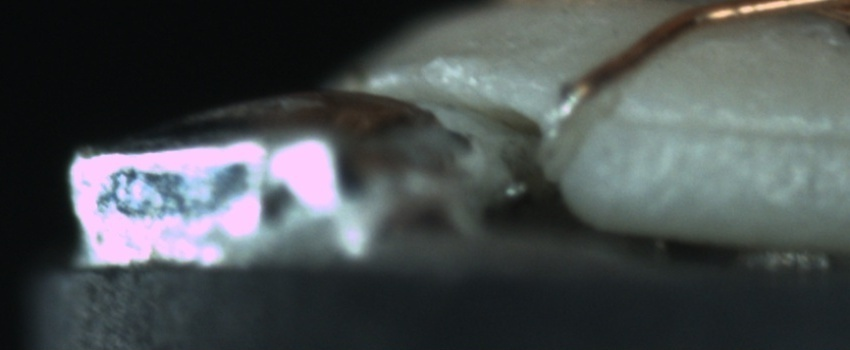DL: (609, 92, 843, 165)
